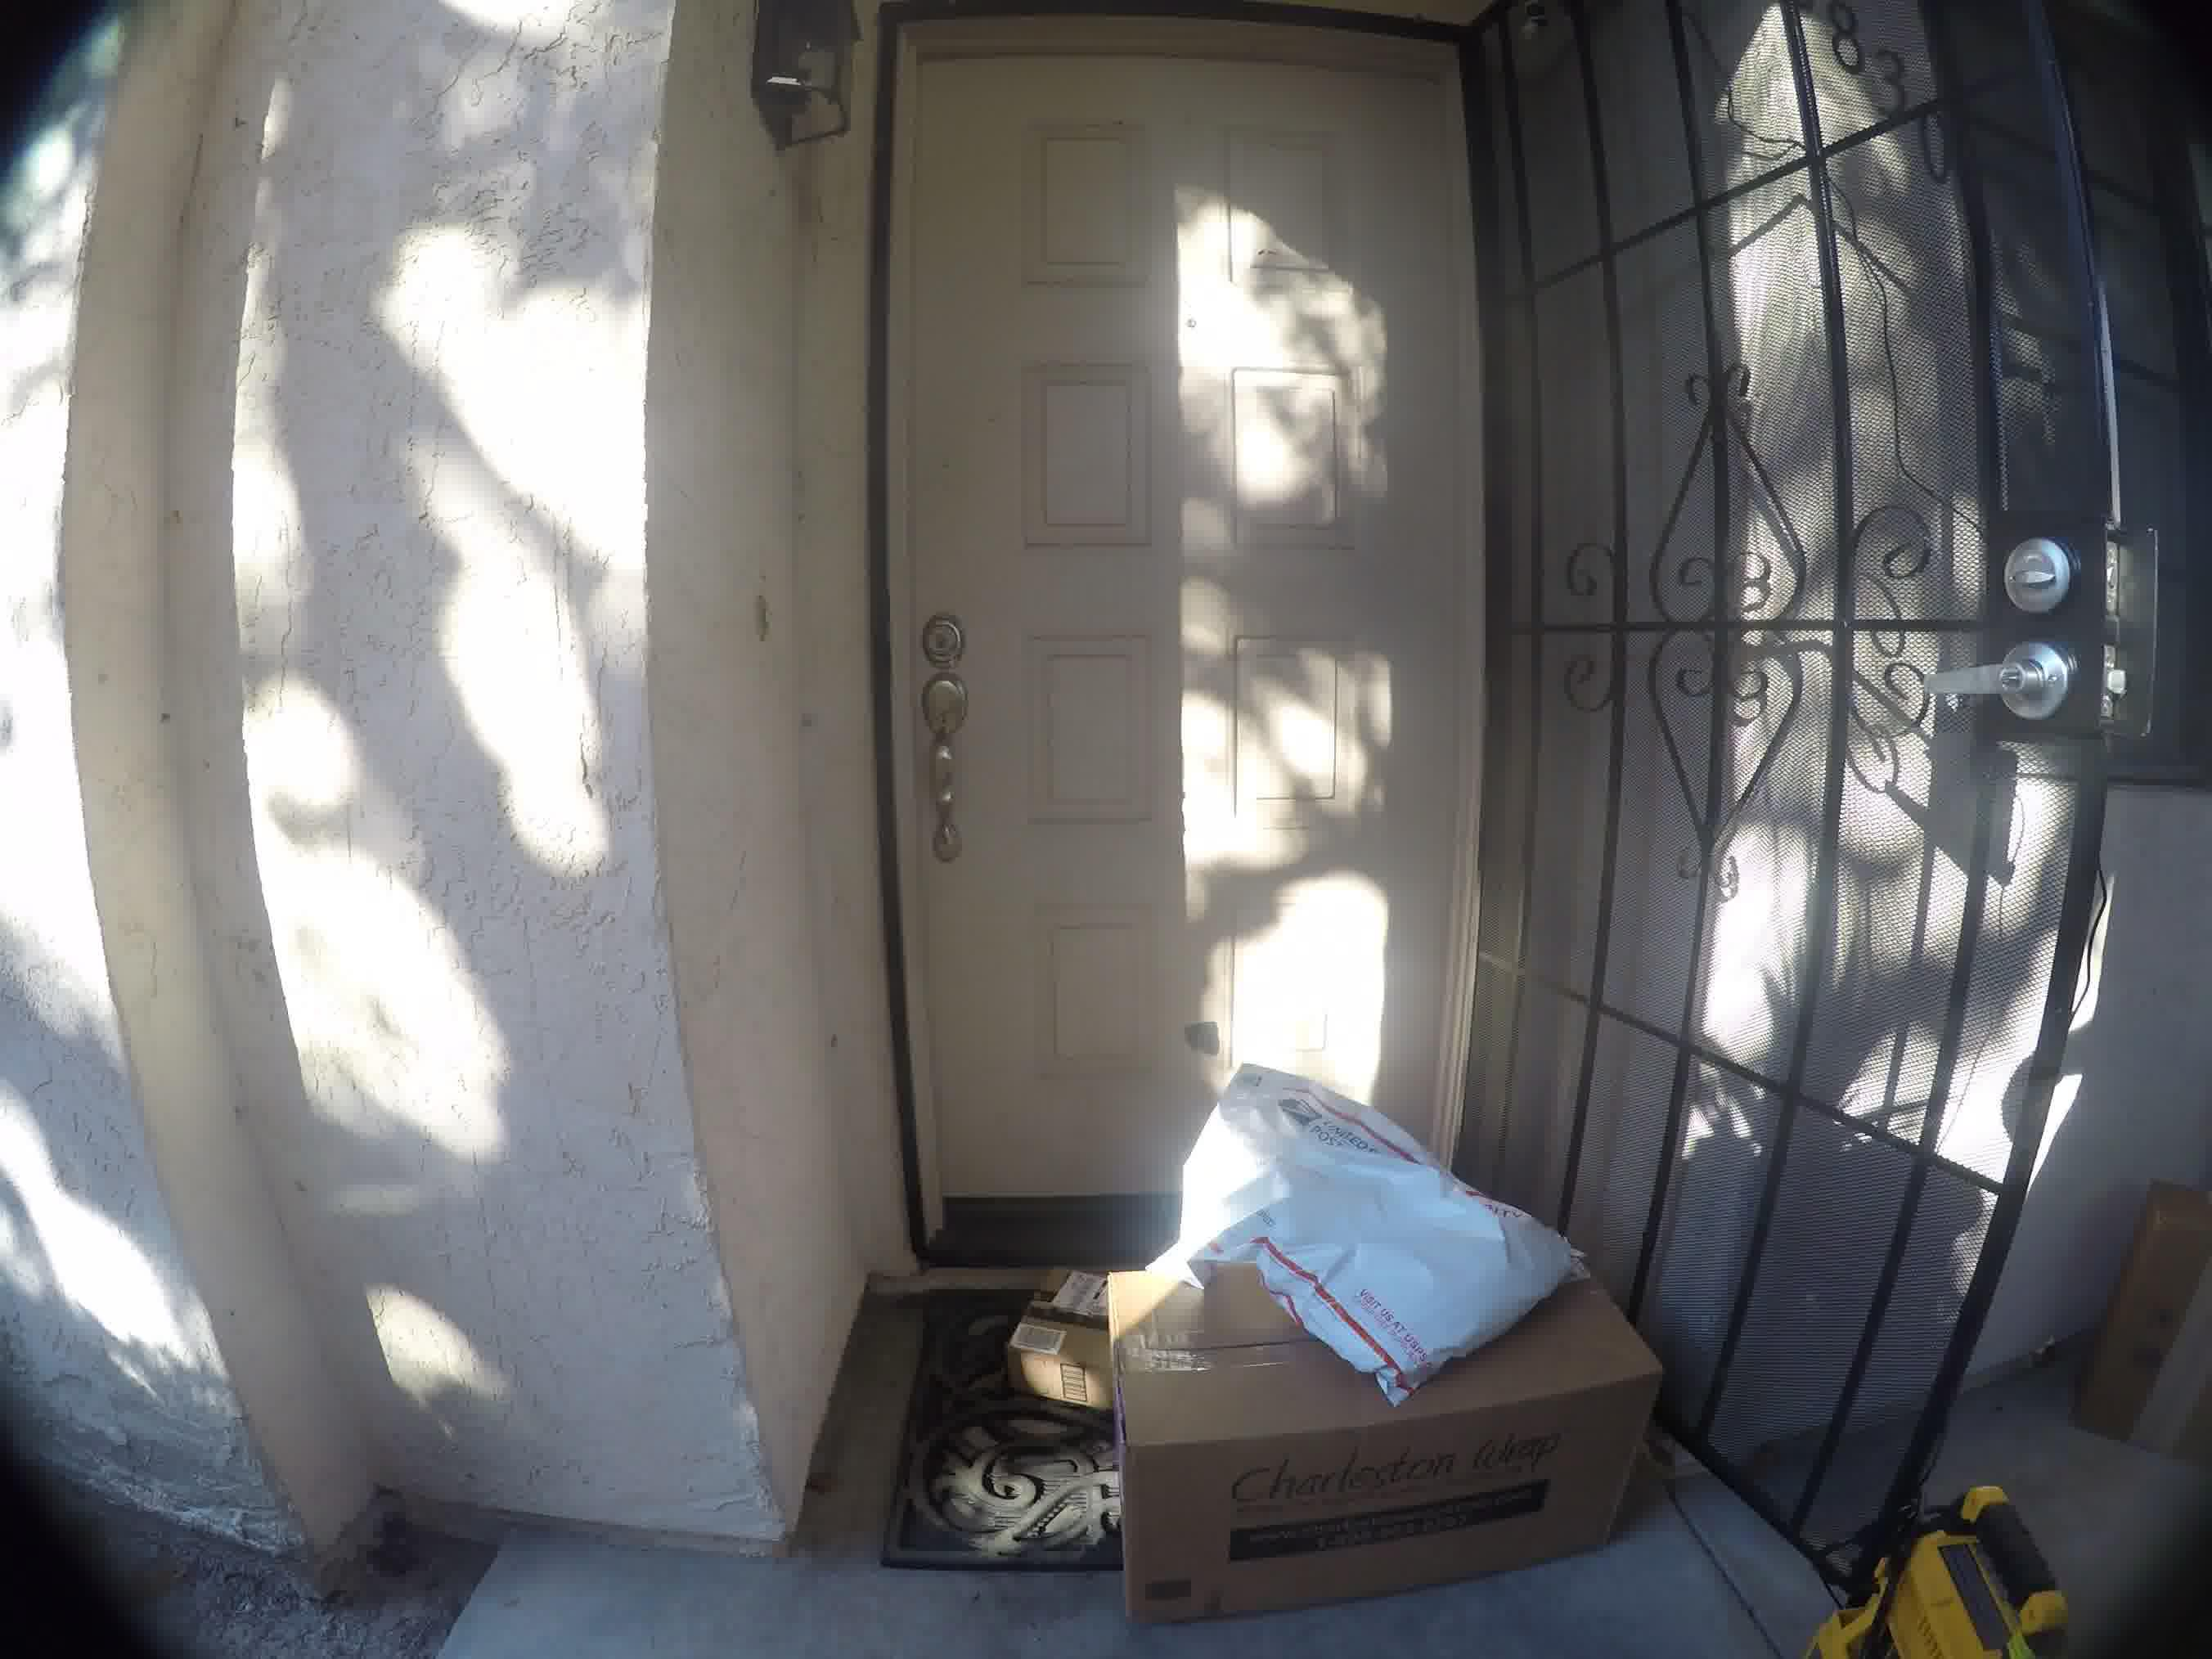box: (1106, 1370, 1674, 1629)
plastic_bag: (1143, 1039, 1595, 1366)
